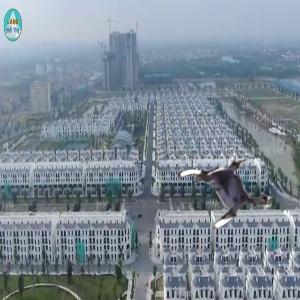drone: (183, 147, 270, 234)
